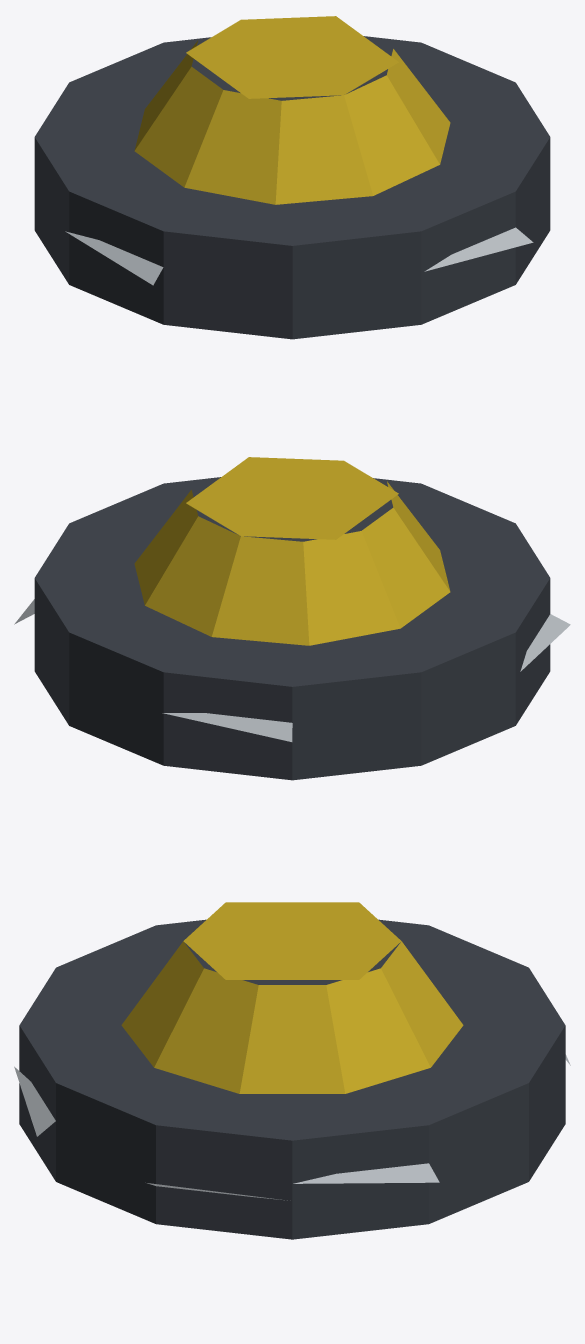
The model's file is mine-deafening.lod.glb.
3 renders of one model, top to bottom at view 1: azimuth 30°, elevation 25°; view 2: azimuth 150°, elevation 25°; view 3: azimuth 270°, elevation 25°, orthographic. The views are drawn at different scales.
Visible parts, largest first — view 1: m; view 2: m; view 3: m.
Boxes of the visible parts, x1,y1,x2,y2 form: m: (34,16,550,339); m: (14,457,570,780); m: (14,902,570,1239).
Size of the model in its own units: 0.0944 by 0.0519 by 0.0944.
